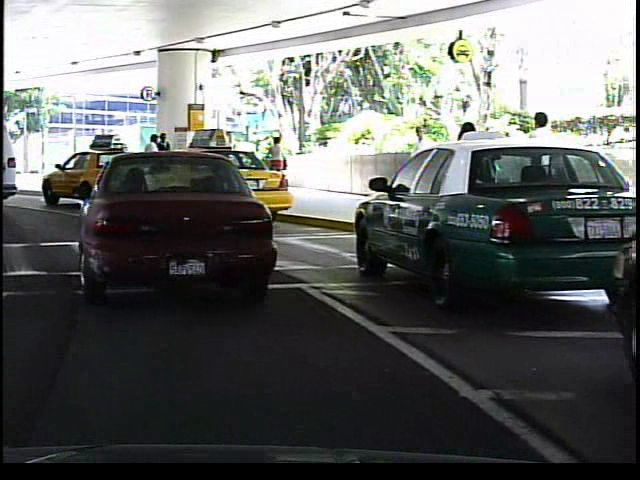person: (450, 112, 500, 229), (521, 105, 565, 232), (405, 119, 440, 209), (265, 132, 290, 192), (155, 129, 174, 189), (142, 132, 162, 188)
